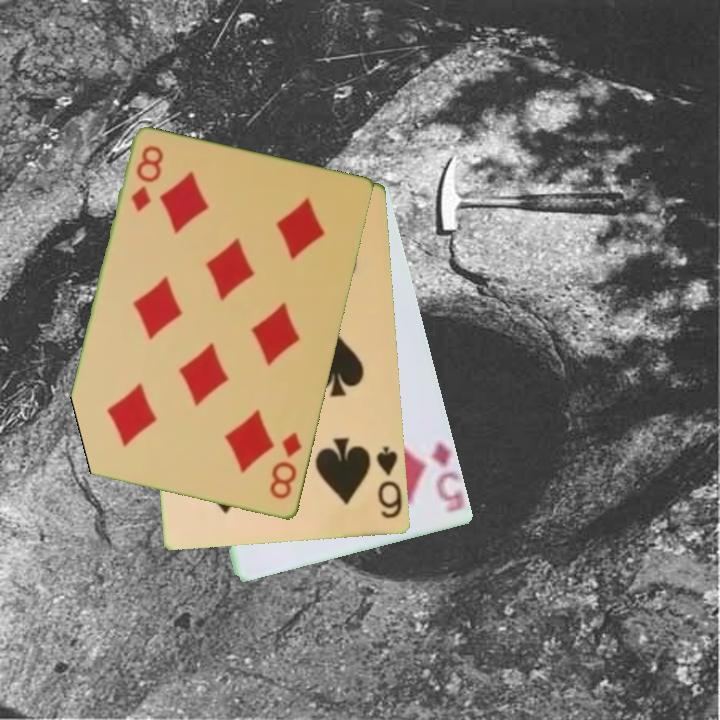5d: (428, 437, 464, 513)
6s: (373, 443, 406, 522)
8d: (266, 429, 306, 503), (128, 142, 167, 216)
